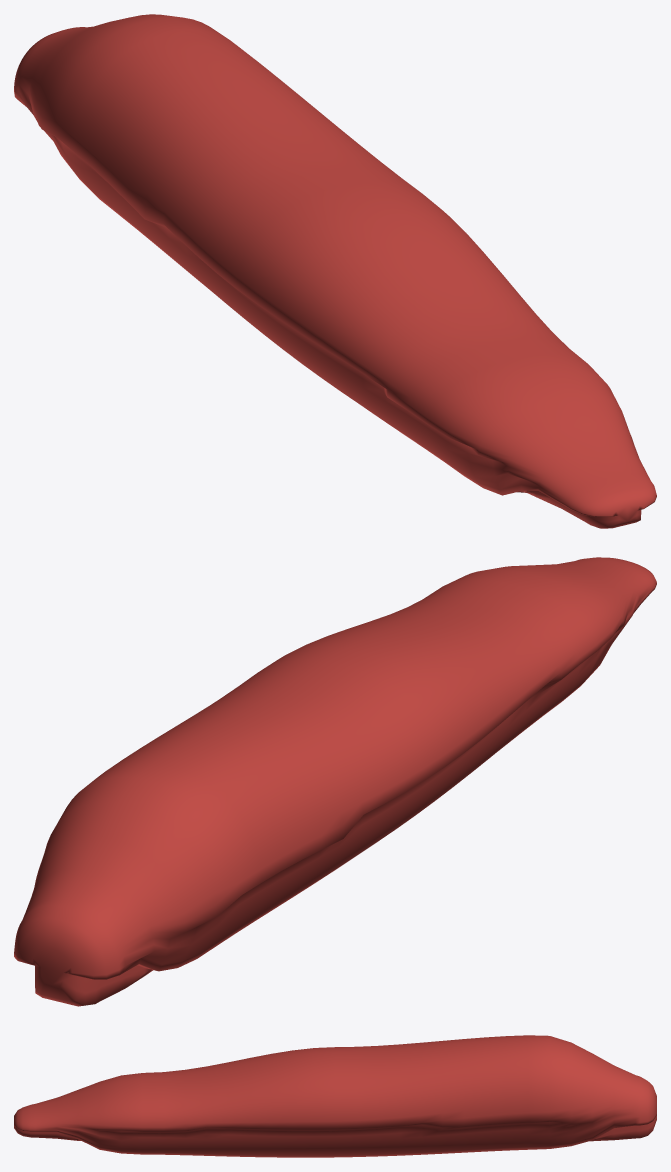
The model's file is peanut.glb.
3 views of the same model, one above another, from view 1: azimuth 30°, elevation 25°; view 2: azimuth 150°, elevation 25°; view 3: azimuth 270°, elevation 25° (orthographic). The views are drawn at different scales.
Parts seen in each view (by area): view 1: lod0; view 2: lod0; view 3: lod0.
Part boxes in pixels (box(x1,y1,x2,y2)): lod0: box(14, 14, 656, 528); lod0: box(14, 557, 656, 1006); lod0: box(14, 1035, 656, 1157).
Size of what is drawn, in the model's own units: 0.2097 by 0.1754 by 1.
